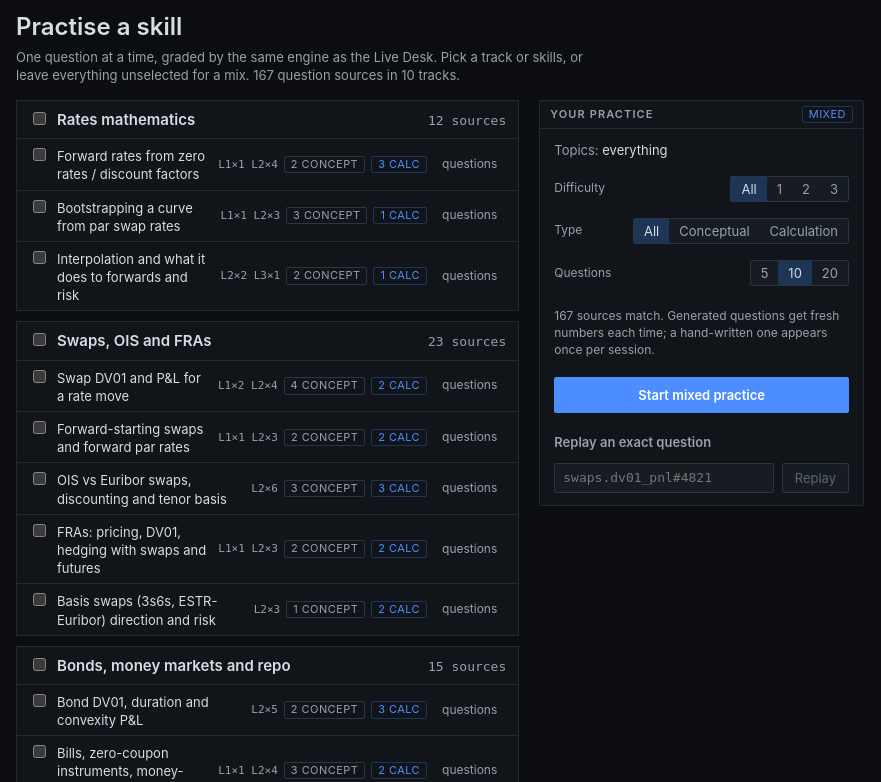
Test: the question screen › selects an option by letter, submits with Enter, and shows submitted answer, result, expected and rationale as separate rows
The width and height of the screenshot is (881, 782).
In the field named "question id": (664, 478) 554,463 -> 774,493, type "basis.irs_vs_ois#1"
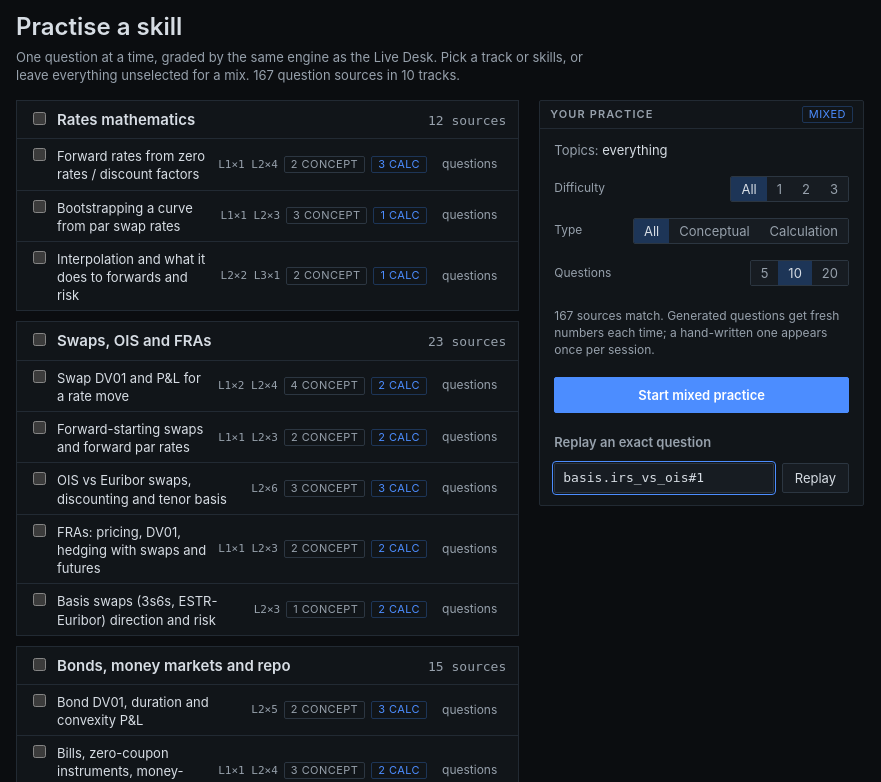
Click the button "Replay": (815, 478) 782,463 -> 849,493
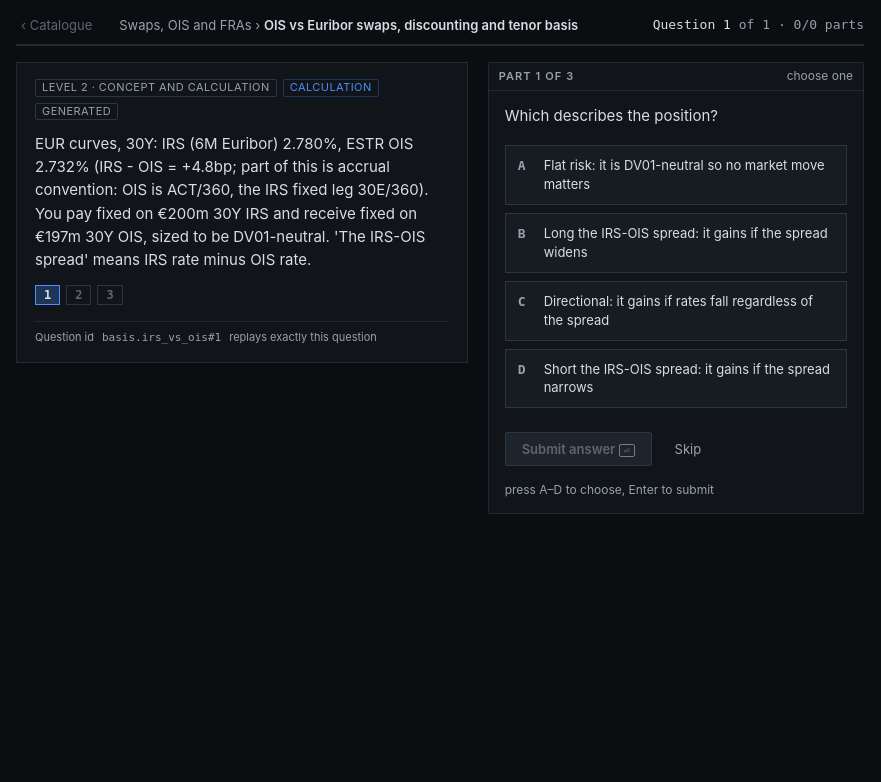
Now the text "Which describes the position?" is shown, box 505,106 -> 718,125
Type keys "b"
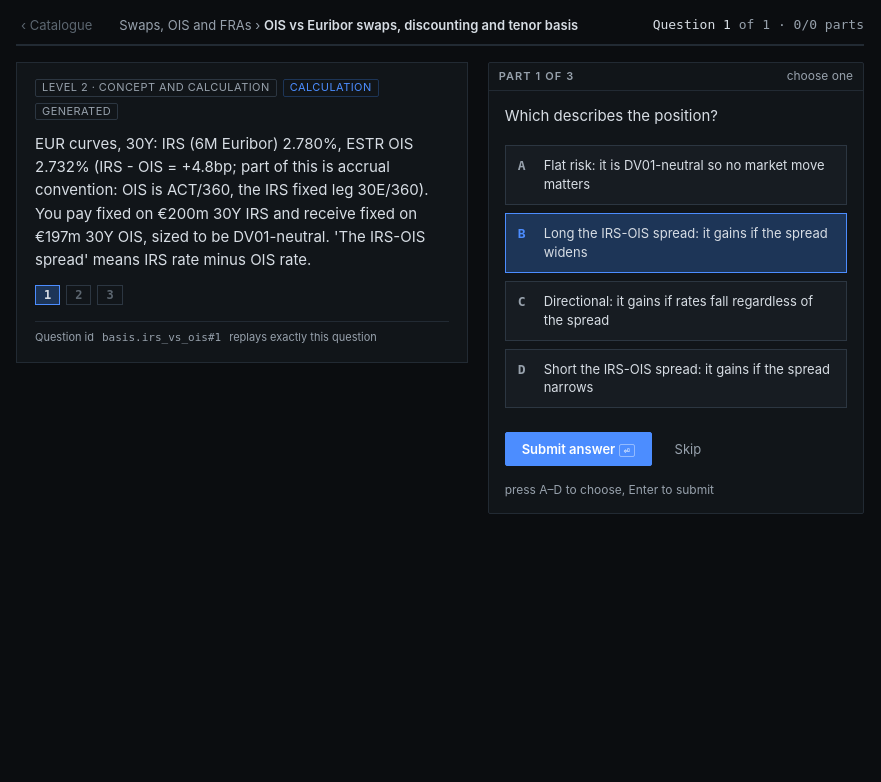
Now the radio button labelled "B Long the IRS-OIS spread: it gains if the spread widens" is checked, box 505,213 -> 847,273
Press Enter
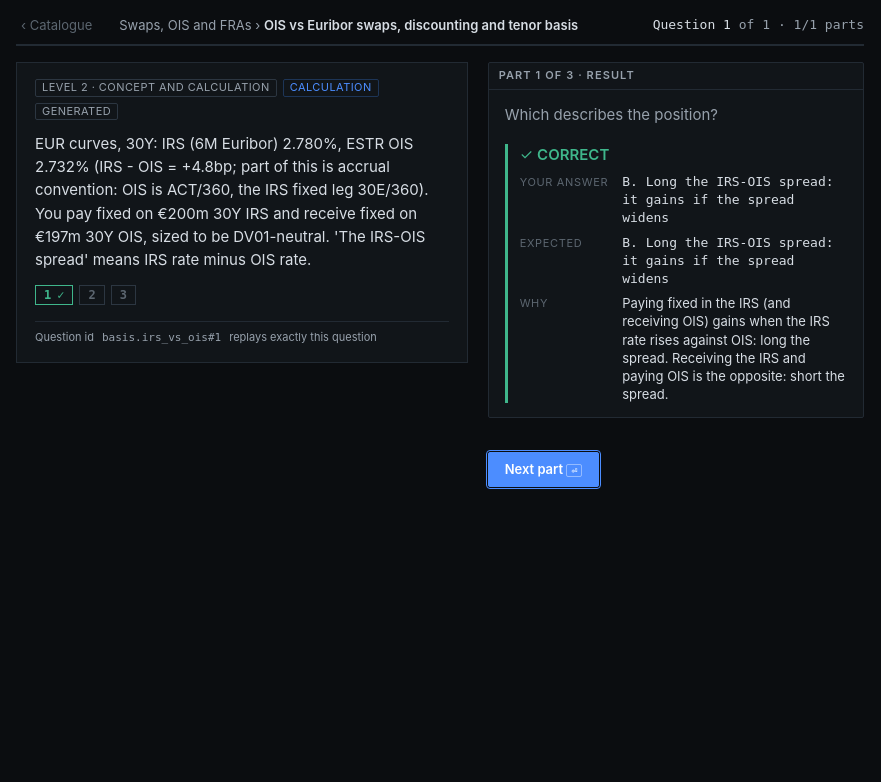
Now the text "CORRECT" is shown, box 537,145 -> 609,164
Now the text "Expected" is shown, box 520,236 -> 582,250
Now the text "Why" is shown, box 520,296 -> 548,310
